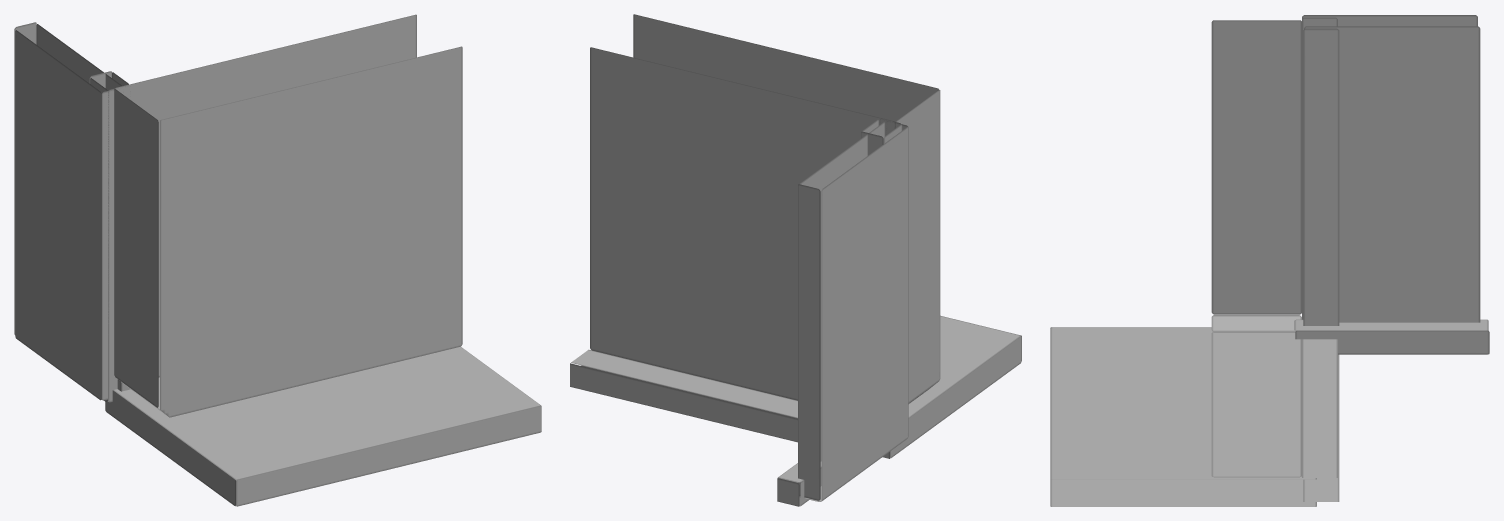
File: pz_bed_bedding_01_large_modern_0_0.obj
3 views of the same model, side by side, from view 1: azimuth 30°, elevation 25°; view 2: azimuth 150°, elevation 25°; view 3: azimuth 270°, elevation 25° (orthographic). The views are drawn at different scales.
Bounding box in the file's own units: 0.995 × 0.985 × 1.17.
1 material, 1 textured.
